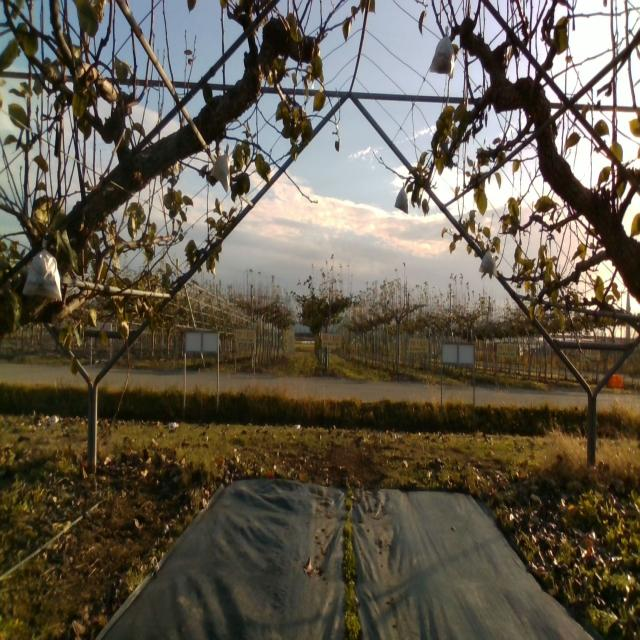pearbags: (22, 236, 62, 301), (430, 27, 454, 79), (210, 145, 232, 194), (479, 248, 498, 276), (394, 185, 409, 212)
